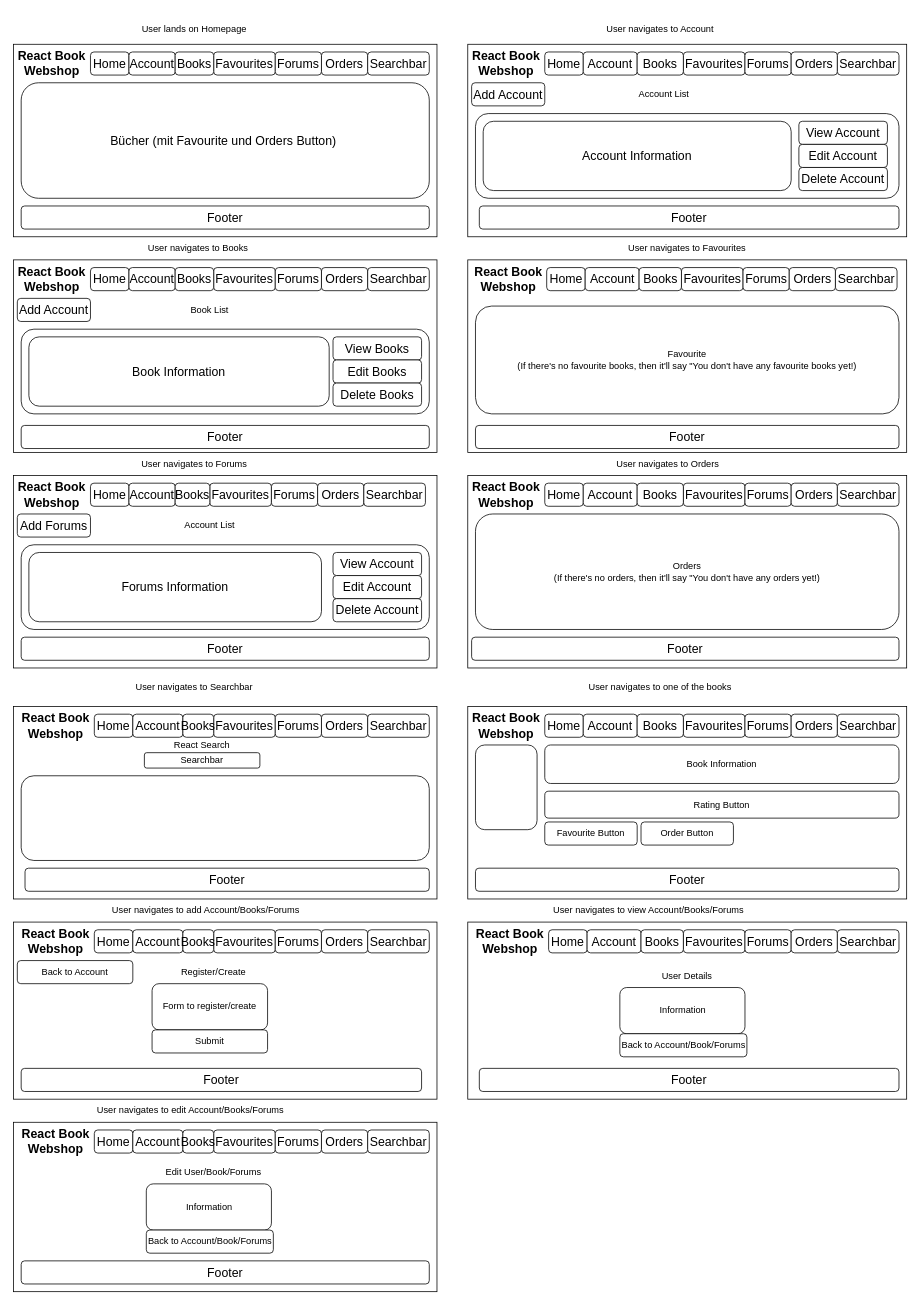
The diagram is 920 pixels wide and 1305 high, and some of its shapes have lost their labels. Here are the shapes that lost their labels. From the top down, the box of each, then its label:
(475, 744, 537, 830): Picture of a book
(20, 775, 429, 860): All Books in the Homepage (not in Books!)
